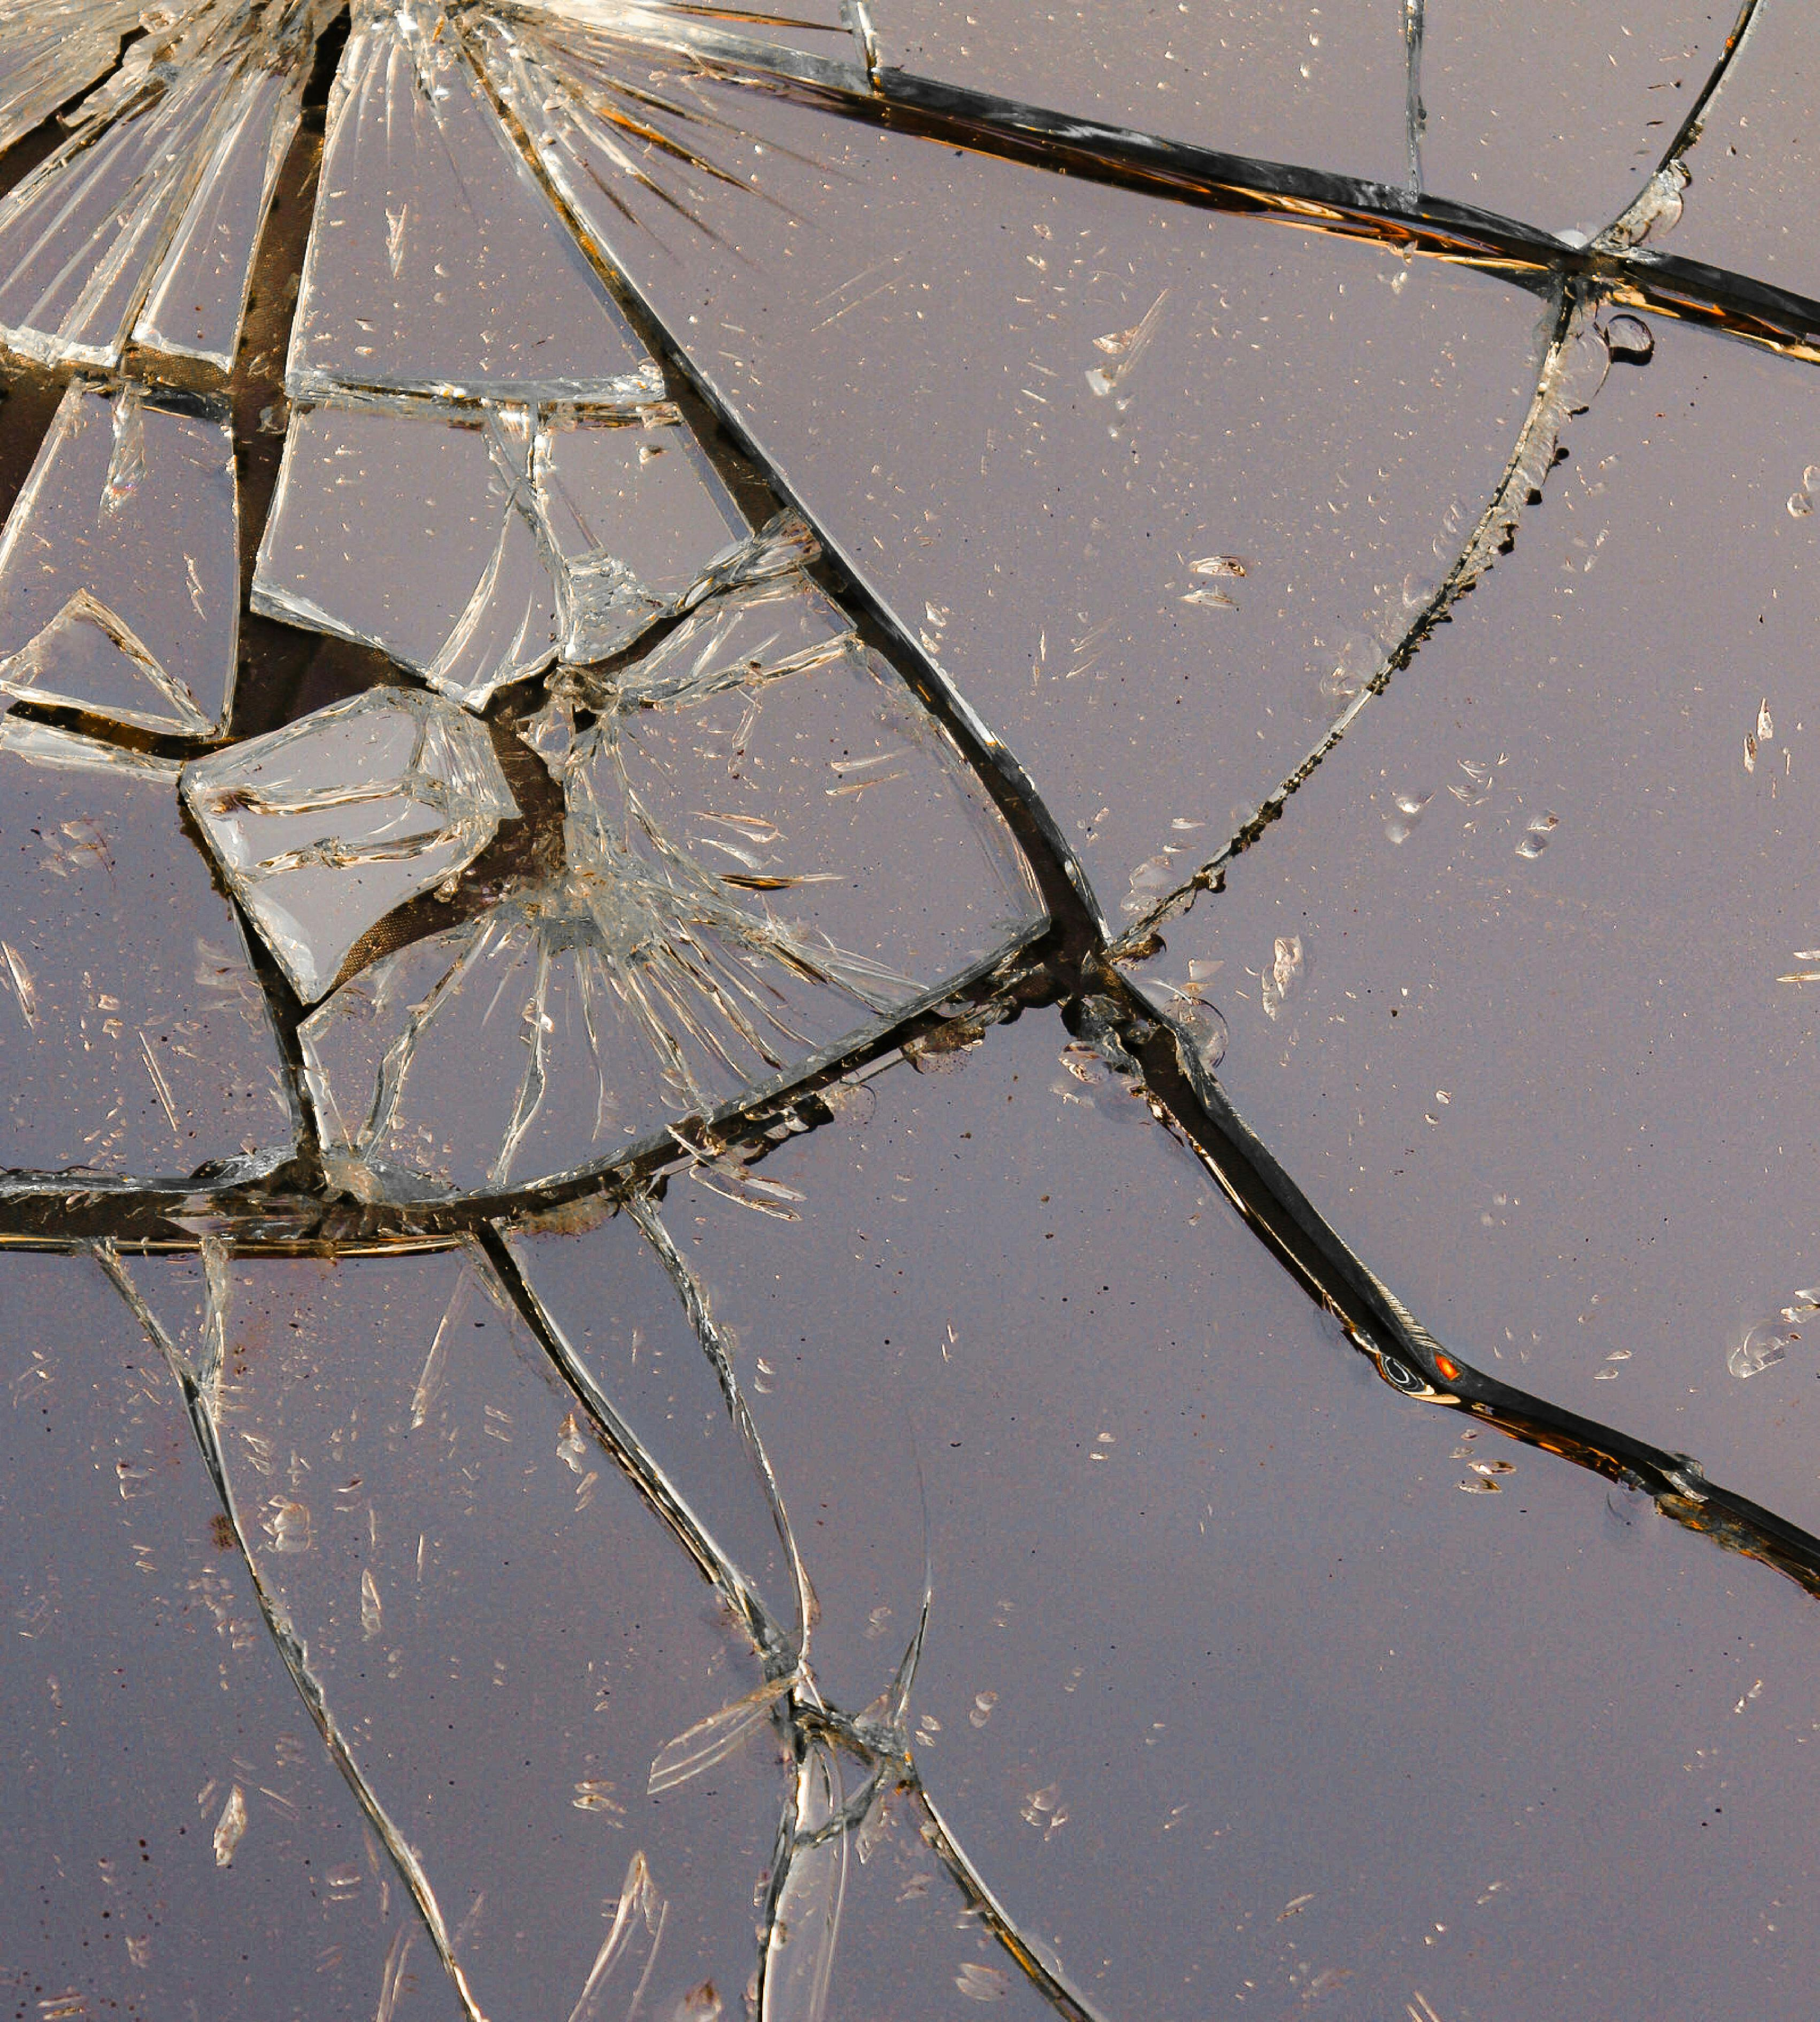glass: (121, 1182, 952, 1950), (1101, 1154, 1713, 1592), (285, 5, 680, 425), (0, 4, 337, 399), (172, 699, 527, 979), (256, 401, 557, 694), (0, 378, 251, 720), (694, 917, 1040, 1144), (636, 524, 849, 748), (641, 5, 822, 107)
